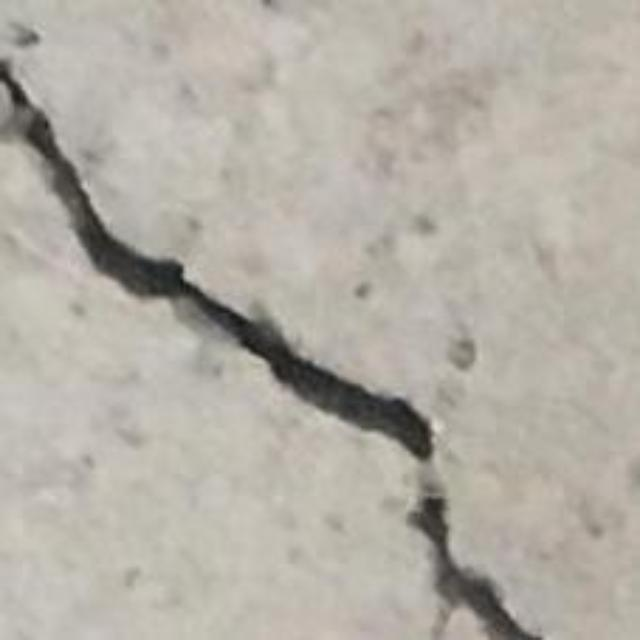crack: (0, 60, 544, 639)
